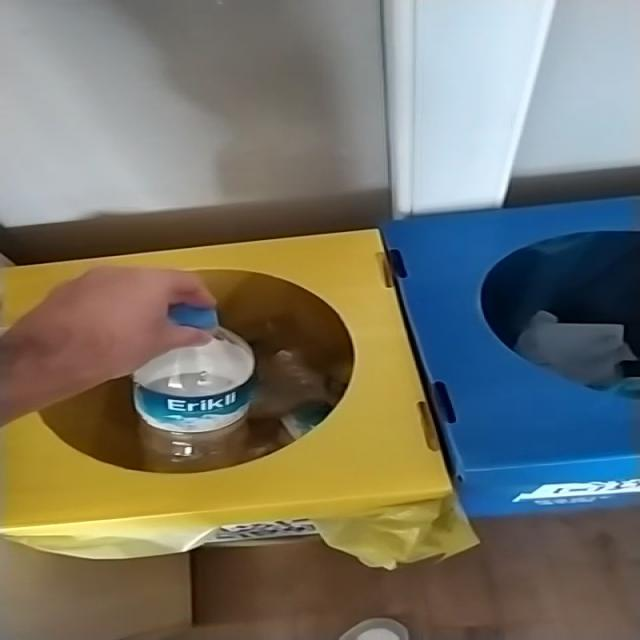plastic: (133, 304, 255, 472)
